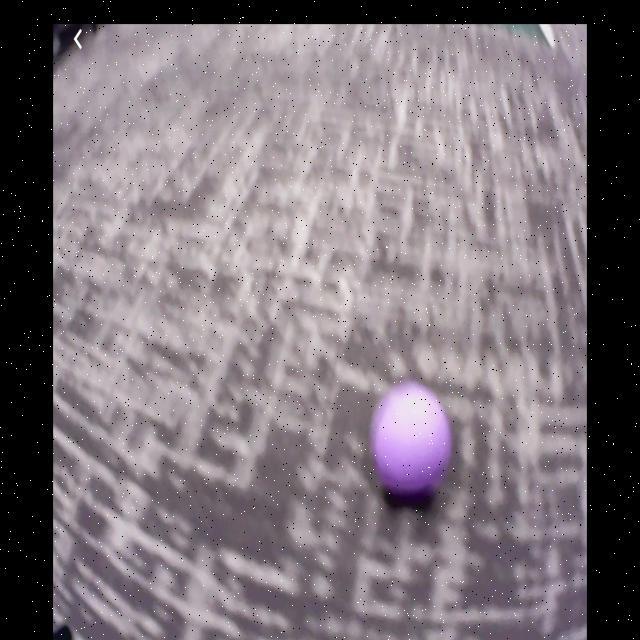ball: (372, 387, 453, 499)
